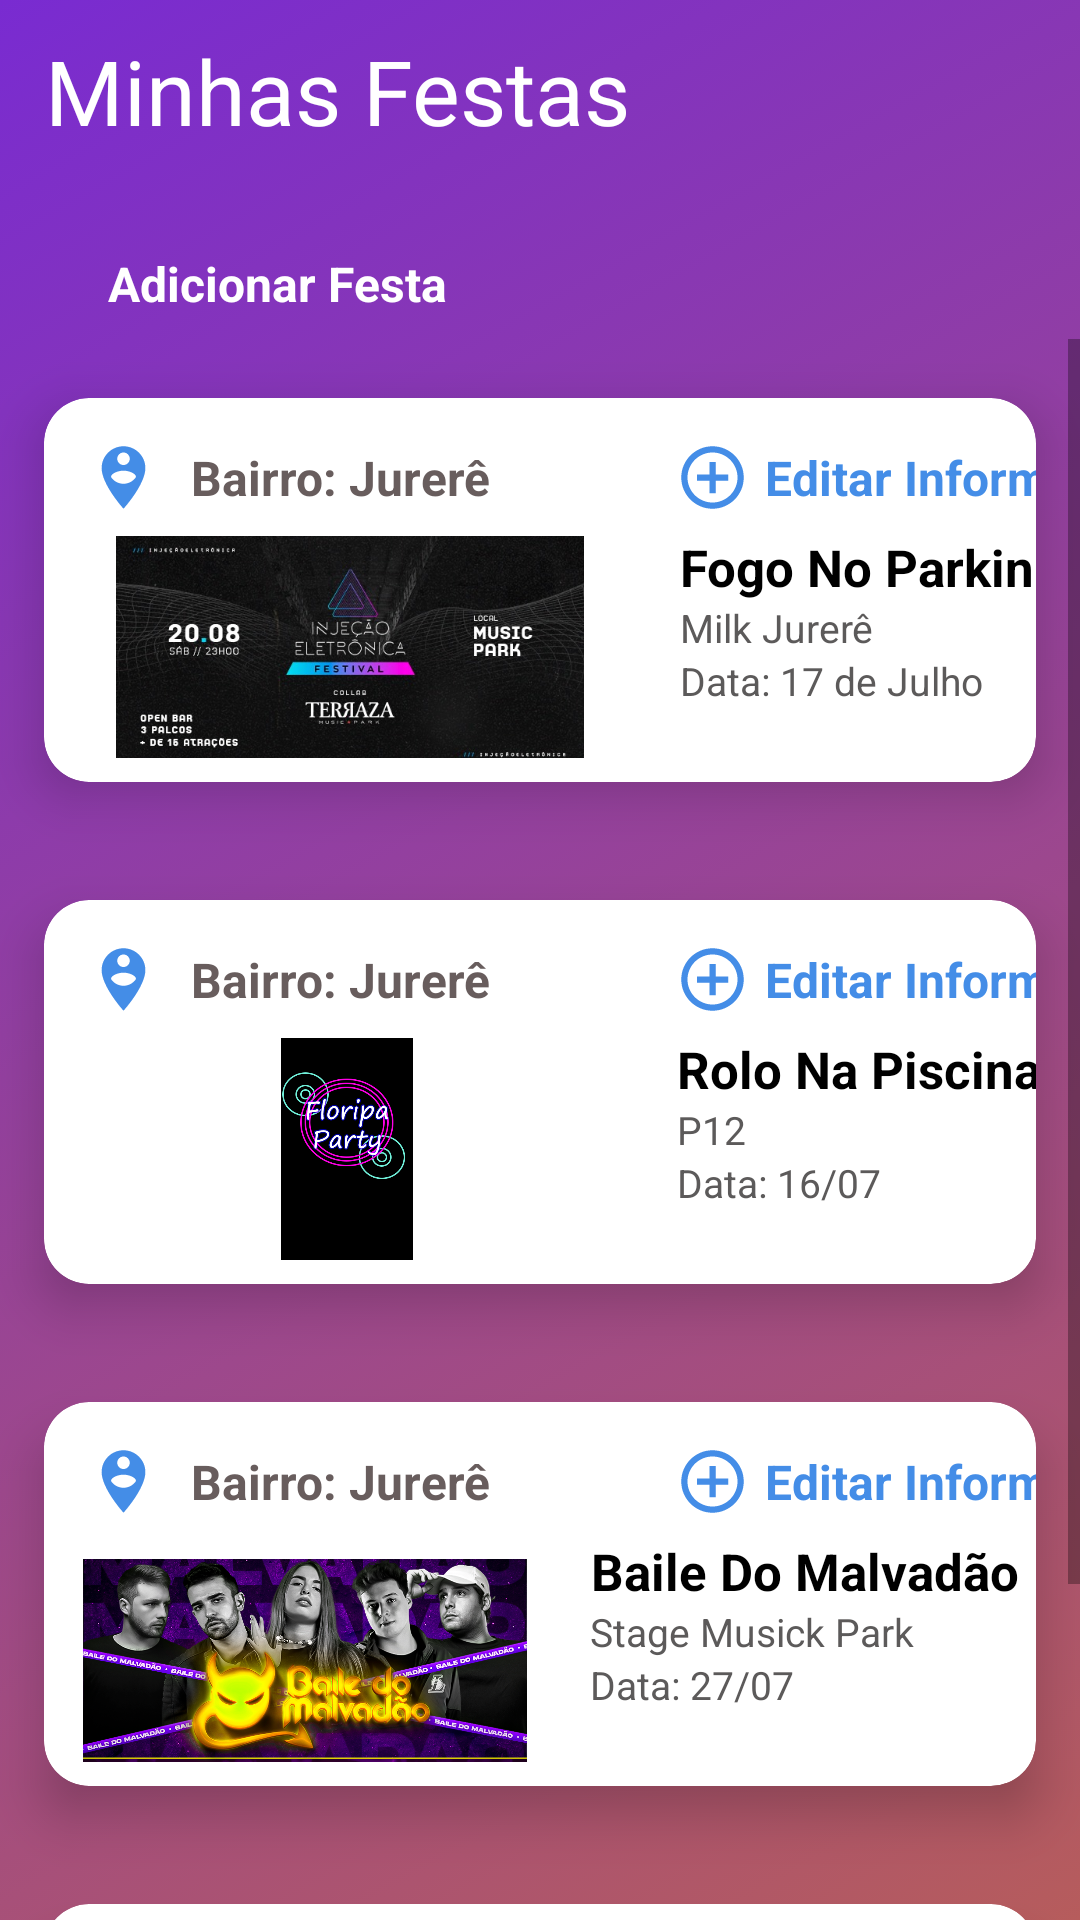

Point at icon controls on the screen. Image size 1080 × 1920, points as (x=x, y=y).
add circle: (x=712, y=477), (x=712, y=979), (x=712, y=1481)
person pin circle: (x=123, y=477), (x=123, y=979), (x=123, y=1481)
